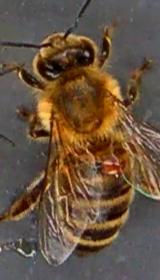varroa_mite: (88, 152, 127, 180)
